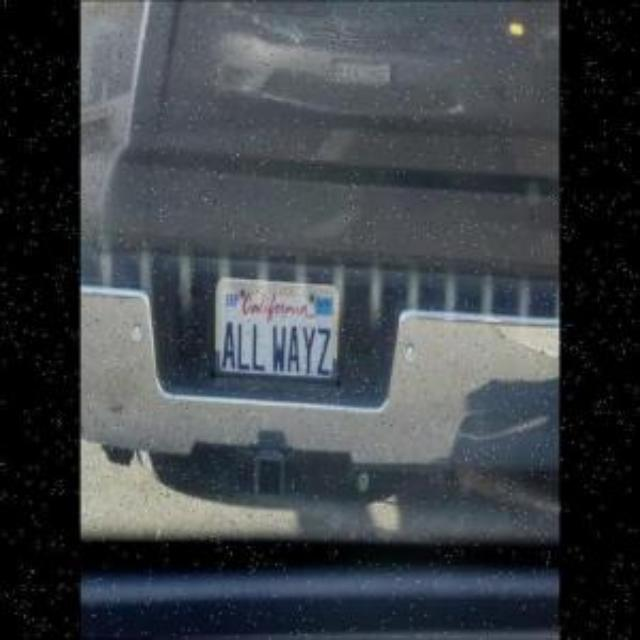License Plate: (208, 265, 356, 403)
